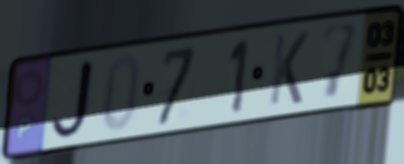0: (100, 51, 145, 136)
1: (227, 37, 251, 117)
7: (156, 43, 199, 128), (319, 18, 360, 106)
J: (47, 55, 98, 144)
K: (266, 29, 311, 109)
